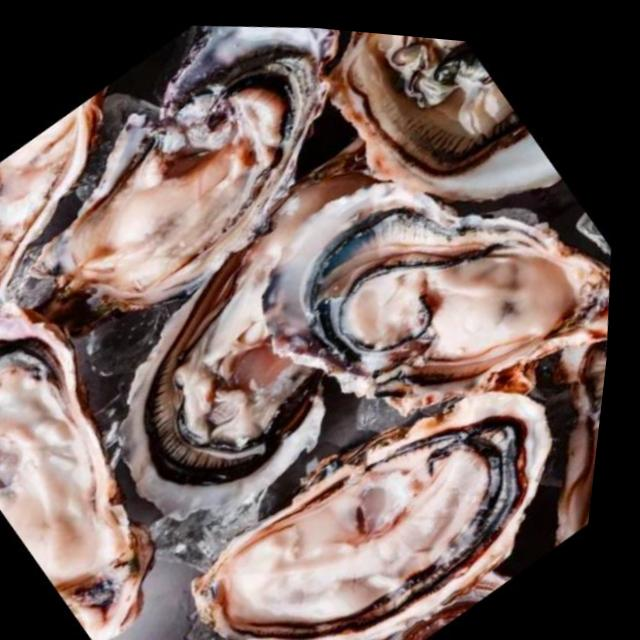Oyster-Open: (96, 114, 422, 540), (188, 396, 552, 640), (38, 26, 339, 313), (265, 183, 609, 395), (0, 302, 151, 640), (331, 31, 559, 200), (0, 96, 100, 296)
